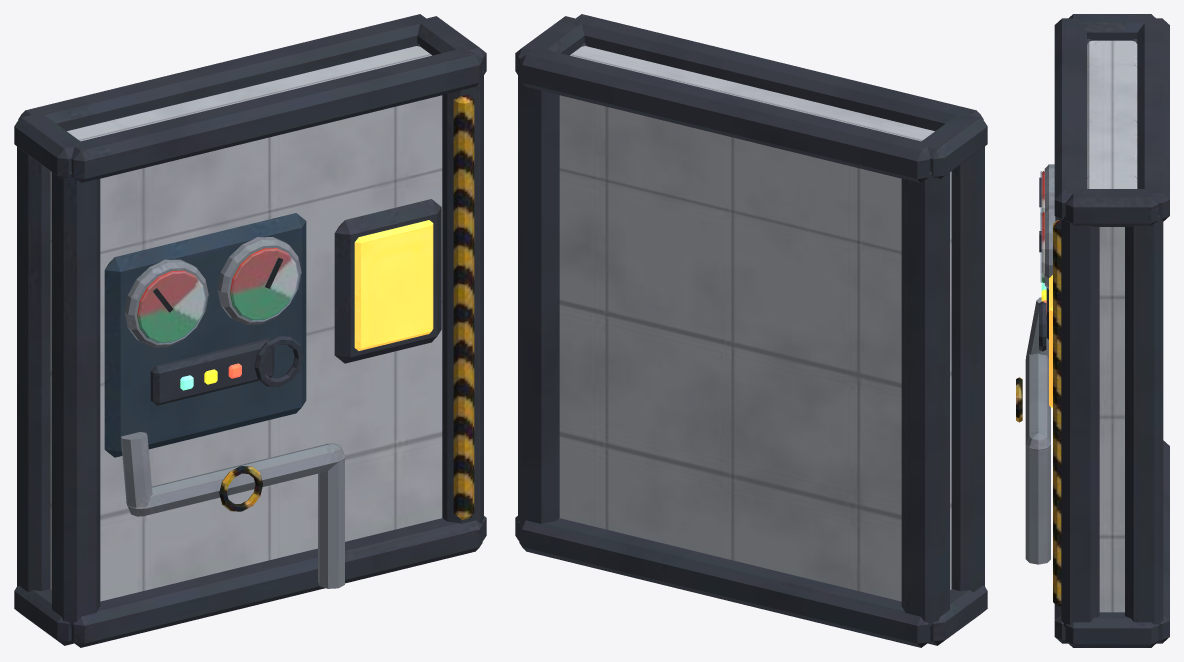
File: pressure-gauge.glb
The picture shows the model from 3 angles, left to right: view 1: azimuth 30°, elevation 25°; view 2: azimuth 150°, elevation 25°; view 3: azimuth 270°, elevation 25°; orthographic projection. The views are drawn at different scales.
Visible parts, largest first — view 1: WallFrame, WallBody, GaugeBay, FeedPipe, HazardTrim, PortholePane, PortholeFrame, ControlStrip, DialGlass0, DialFace0, DialGlass1, DialFace1 (+4 smaller); view 2: WallBody, WallFrame; view 3: WallFrame, WallBody, FeedPipe, HazardTrim, Bezel1, PortholePane, Bezel0, ValveWheel, PipeValve, DialFace1.
Part boxes in pixels (left/top/right/bottom): WallFrame: left=14, top=14, right=486, bottom=647; WallBody: left=50, top=46, right=442, bottom=601; GaugeBay: left=104, top=213, right=306, bottom=457; FeedPipe: left=121, top=432, right=345, bottom=588; HazardTrim: left=453, top=94, right=474, bottom=519; PortholePane: left=354, top=220, right=433, bottom=350; PortholeFrame: left=334, top=199, right=441, bottom=363; ControlStrip: left=150, top=338, right=274, bottom=405; DialGlass0: left=138, top=271, right=206, bottom=344; DialFace0: left=137, top=270, right=205, bottom=342; DialGlass1: left=231, top=249, right=299, bottom=321; DialFace1: left=230, top=248, right=297, bottom=320; WallBody: left=559, top=46, right=951, bottom=601; WallFrame: left=515, top=14, right=987, bottom=647; WallFrame: left=1054, top=14, right=1169, bottom=647; WallBody: left=1087, top=40, right=1137, bottom=612; FeedPipe: left=1025, top=297, right=1050, bottom=564; HazardTrim: left=1053, top=220, right=1061, bottom=606; Bezel1: left=1044, top=205, right=1055, bottom=289; PortholePane: left=1049, top=275, right=1052, bottom=408; Bezel0: left=1044, top=164, right=1054, bottom=209; ValveWheel: left=1039, top=301, right=1046, bottom=351; PipeValve: left=1016, top=377, right=1022, bottom=422; DialFace1: left=1041, top=212, right=1044, bottom=283.
Size of the model in its own units: 2.13 by 2.35 by 0.7286.
12 materials, 12 textured.
